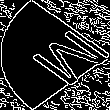M_SE: (7, 20, 103, 90)
